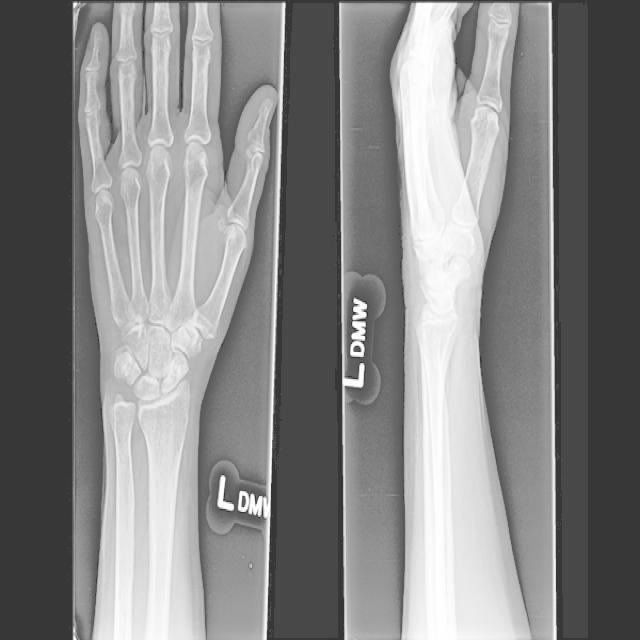Comminuted Fracture: (214, 211, 234, 239)
